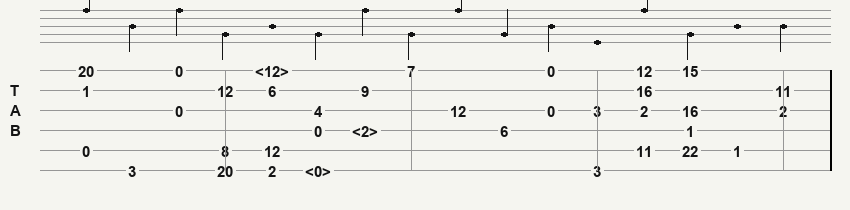0: (82, 143, 94, 158), (175, 63, 187, 78), (175, 103, 187, 118), (314, 123, 326, 138), (547, 63, 559, 78), (547, 103, 559, 118)
1: (82, 83, 94, 98), (686, 123, 698, 138), (733, 143, 745, 158)
11: (636, 143, 656, 158), (775, 83, 795, 98)
12: (217, 83, 237, 98), (264, 143, 284, 158), (450, 103, 470, 118), (636, 63, 656, 78)
15: (682, 63, 702, 78)
16: (636, 83, 656, 98), (682, 103, 702, 118)
2: (268, 163, 280, 178), (640, 103, 652, 118), (779, 103, 791, 118)
20: (78, 63, 98, 78), (217, 163, 237, 178)
22: (682, 143, 702, 158)
3: (128, 163, 140, 178), (593, 163, 605, 178), (593, 103, 605, 118)
4: (314, 103, 326, 118)
6: (268, 83, 280, 98), (500, 123, 512, 138)
7: (407, 63, 419, 78)
8: (221, 143, 233, 158)
9: (361, 83, 373, 98)
harmonic: (255, 63, 293, 78), (305, 163, 335, 178), (352, 123, 382, 138)
